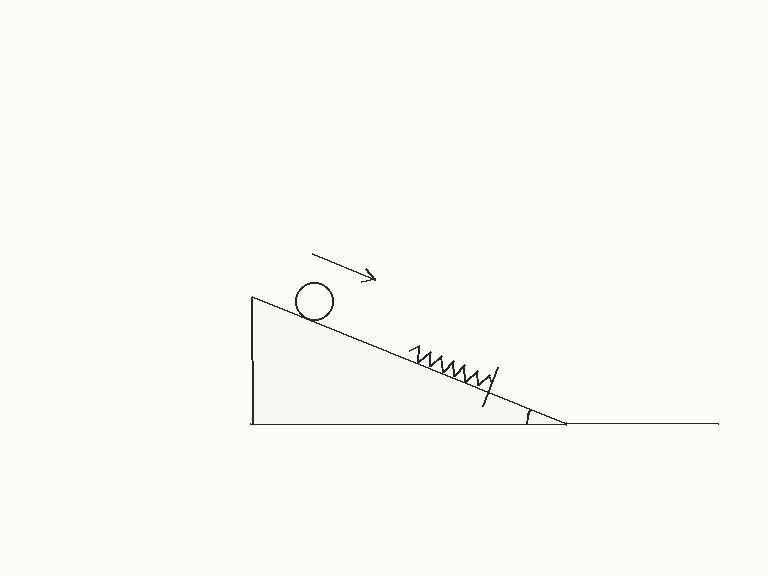ball: (293, 280, 335, 322)
ramp: (250, 295, 569, 426)
spring: (408, 345, 494, 388)
